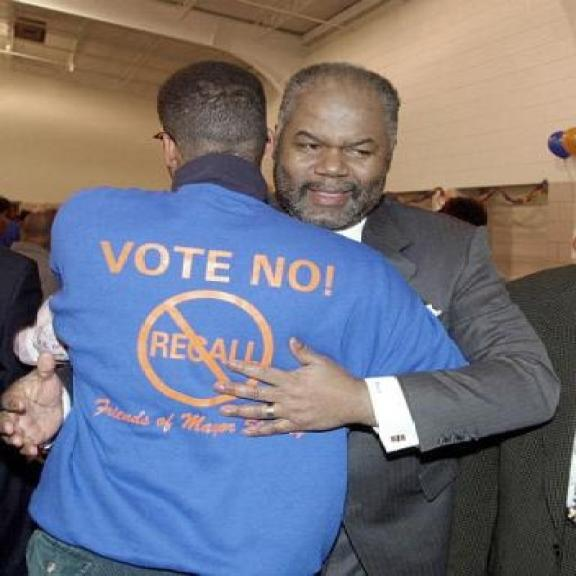face: (274, 81, 396, 231)
